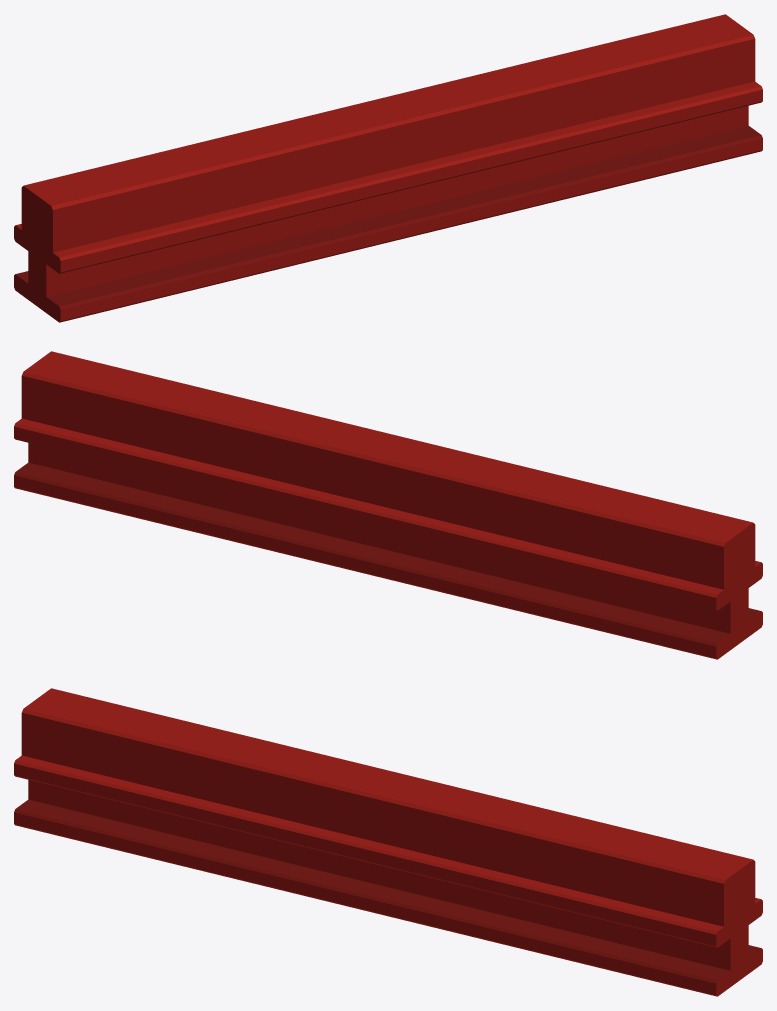
Rendered from steel-structure-3.fbx.
3 renders of one model, top to bottom at view 1: azimuth 30°, elevation 25°; view 2: azimuth 150°, elevation 25°; view 3: azimuth 330°, elevation 25°, orthographic.
Parts seen in each view (by area): view 1: Plane.001; view 2: Plane.001; view 3: Plane.001.
Boxes of the visible parts, bbox=[...] form: Plane.001: bbox=[14, 14, 762, 322]; Plane.001: bbox=[14, 351, 762, 659]; Plane.001: bbox=[14, 688, 762, 996].
Size of the model in its own units: 2258 by 340 by 260.
